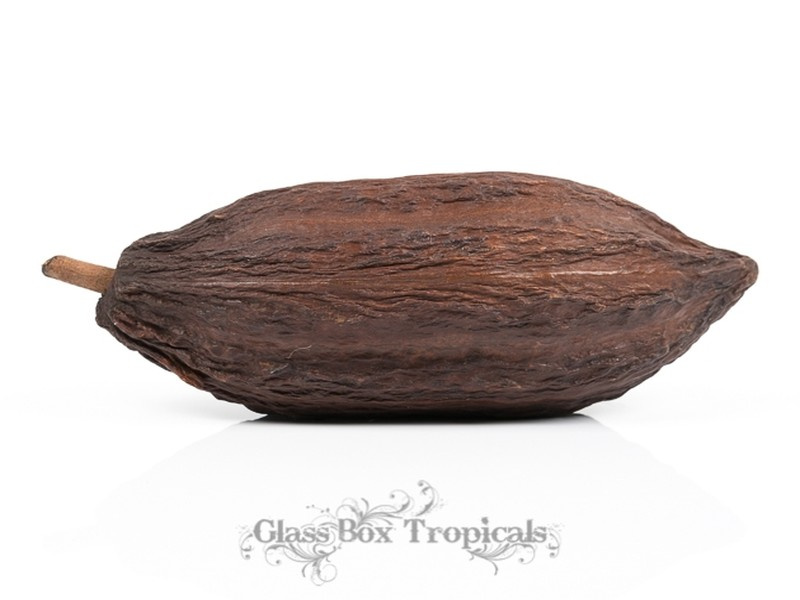Cacaopod: (36, 172, 763, 418)
